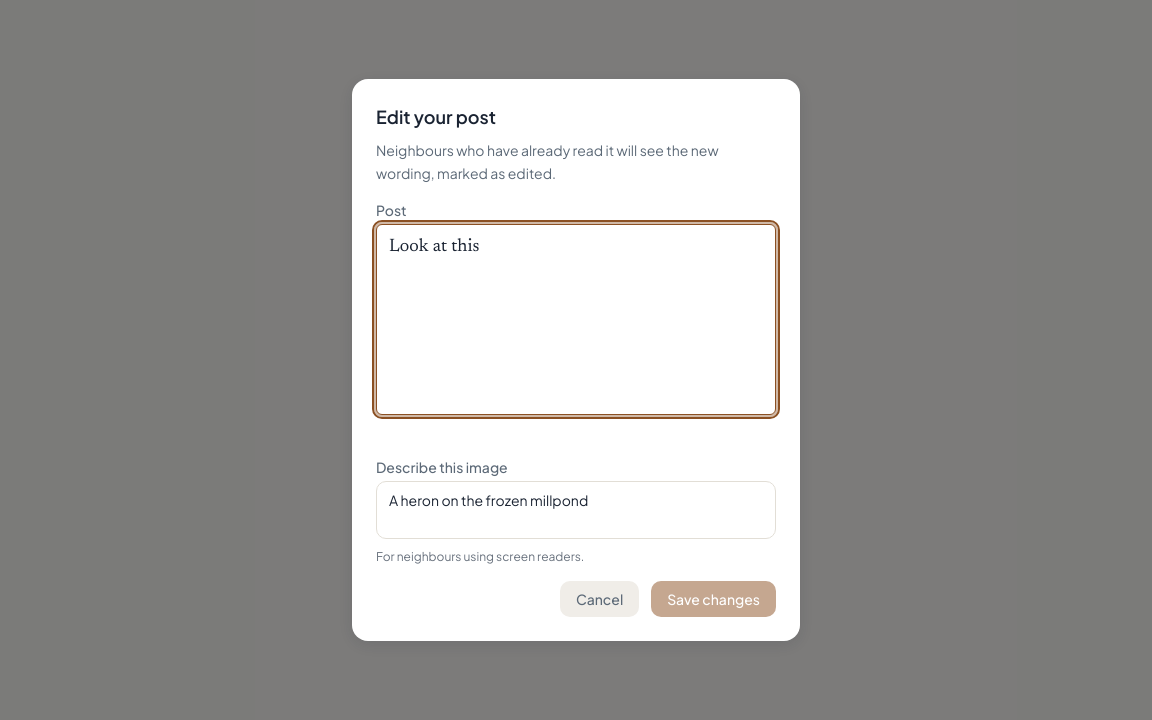
Test case: EditPostDialog image description › enables saving for a description-only edit
This screenshot has width=1152, height=720.
expect the button "Save changes" is disabled: met, box [651,581,776,617]
Replace the text in the text box labelled "Describe this image" with "A heron, wings half open": (576, 510) [376,481,776,539]
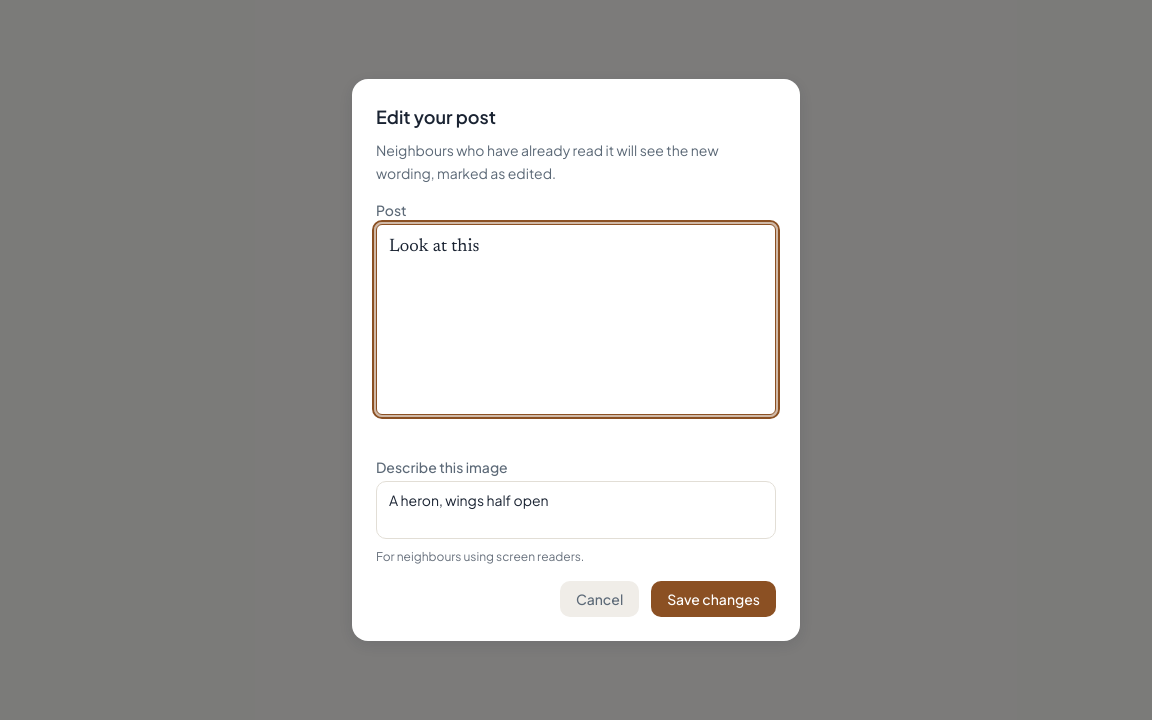
expect the button "Save changes" is enabled: met, box [651,581,776,617]
